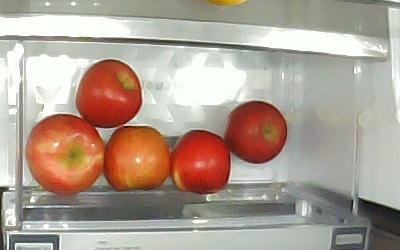apple: (26, 113, 104, 195), (75, 58, 142, 129), (105, 125, 170, 192), (226, 101, 288, 164), (170, 130, 231, 194)
